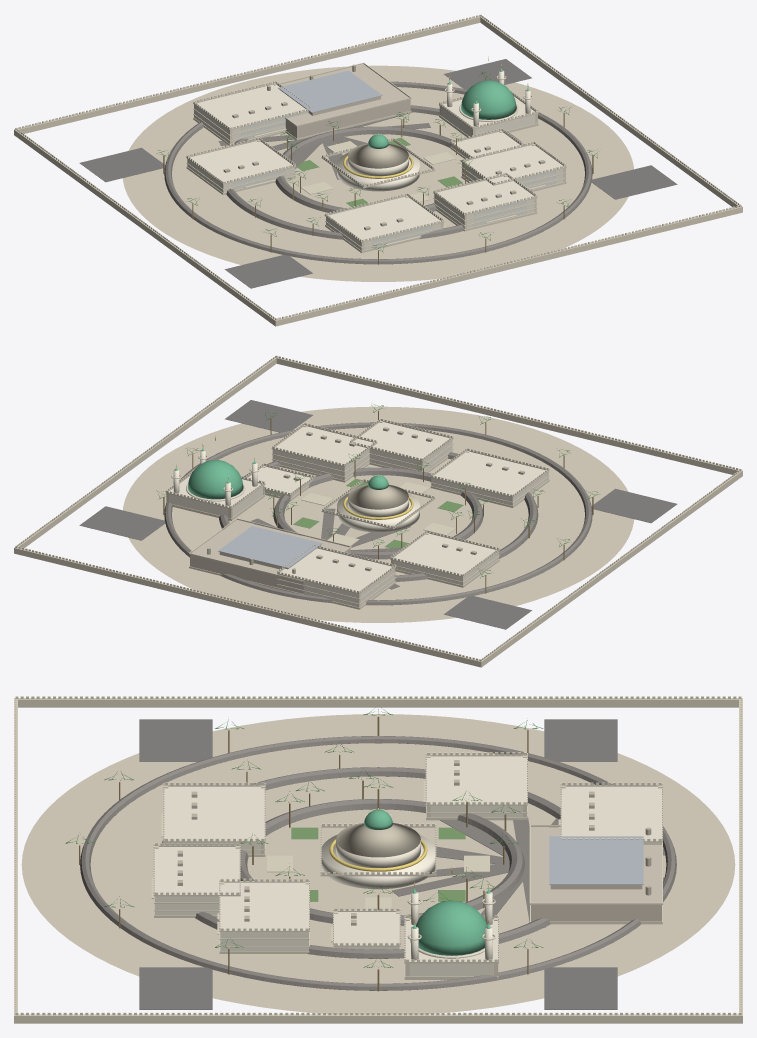
Rendered from campus.glb.
The picture shows the model from 3 angles, top to bottom: view 1: azimuth 30°, elevation 25°; view 2: azimuth 150°, elevation 25°; view 3: azimuth 270°, elevation 25°; orthographic projection. The views are drawn at different scales.
Parts seen in each view (by area): view 1: CampusBase, Ring152, B7, B1, OW0, OW0.001, B6, B8, B2, B3, B6Rdg, Ring72 (+13 smaller); view 2: CampusBase, Ring152, B7, B1, OW0.001, OW0, B3, B8, B6, B2, B6Rdg, Ring72 (+13 smaller); view 3: CampusBase, Ring152, OW194, OW-194, B6, B8, B1, B3, B7, B2, B6Rdg, Ring72 (+16 smaller).
Boxes of the visible parts, x1=… form: CampusBase: x1=123, y1=65, x2=633, y2=281; Ring152: x1=164, y1=81, x2=592, y2=264; B7: x1=194, y1=84, x2=308, y2=143; B1: x1=326, y1=197, x2=440, y2=250; OW0: x1=274, y1=206, x2=742, y2=325; OW0.001: x1=14, y1=16, x2=482, y2=135; B6: x1=281, y1=64, x2=410, y2=138; B8: x1=187, y1=141, x2=295, y2=192; B2: x1=434, y1=176, x2=534, y2=228; B3: x1=462, y1=145, x2=563, y2=189; B6Rdg: x1=278, y1=70, x2=382, y2=112; Ring72: x1=275, y1=126, x2=472, y2=213; CampusBase: x1=123, y1=406, x2=633, y2=622; Ring152: x1=164, y1=422, x2=592, y2=605; B7: x1=279, y1=548, x2=393, y2=607; B1: x1=431, y1=451, x2=547, y2=505; OW0.001: x1=14, y1=547, x2=482, y2=667; OW0: x1=274, y1=357, x2=742, y2=475; B3: x1=272, y1=426, x2=372, y2=480; B8: x1=393, y1=533, x2=498, y2=585; B6: x1=190, y1=520, x2=350, y2=593; B2: x1=353, y1=422, x2=452, y2=472; B6Rdg: x1=218, y1=526, x2=322, y2=568; Ring72: x1=273, y1=467, x2=483, y2=559; CampusBase: x1=21, y1=714, x2=735, y2=1014; Ring152: x1=80, y1=736, x2=676, y2=990; OW194: x1=14, y1=1014, x2=742, y2=1023; OW-194: x1=14, y1=698, x2=742, y2=707; B6: x1=531, y1=827, x2=661, y2=921; B8: x1=426, y1=756, x2=526, y2=817; B1: x1=164, y1=786, x2=264, y2=853; B3: x1=220, y1=882, x2=308, y2=950; B7: x1=561, y1=786, x2=661, y2=844; B2: x1=154, y1=847, x2=239, y2=915; B6Rdg: x1=549, y1=836, x2=643, y2=884; Ring72: x1=240, y1=799, x2=524, y2=925.
Size of what is drawn, in the model's own units: 390 by 56.24 by 378.
